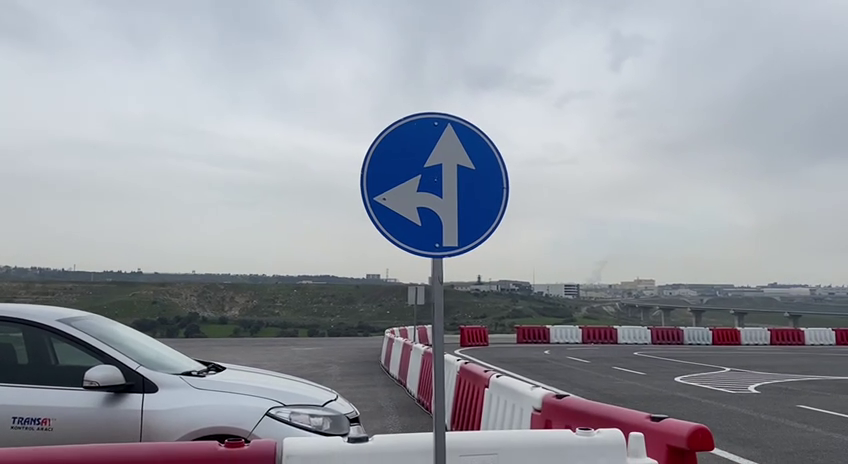forwardAndLeft: (355, 107, 512, 261)
